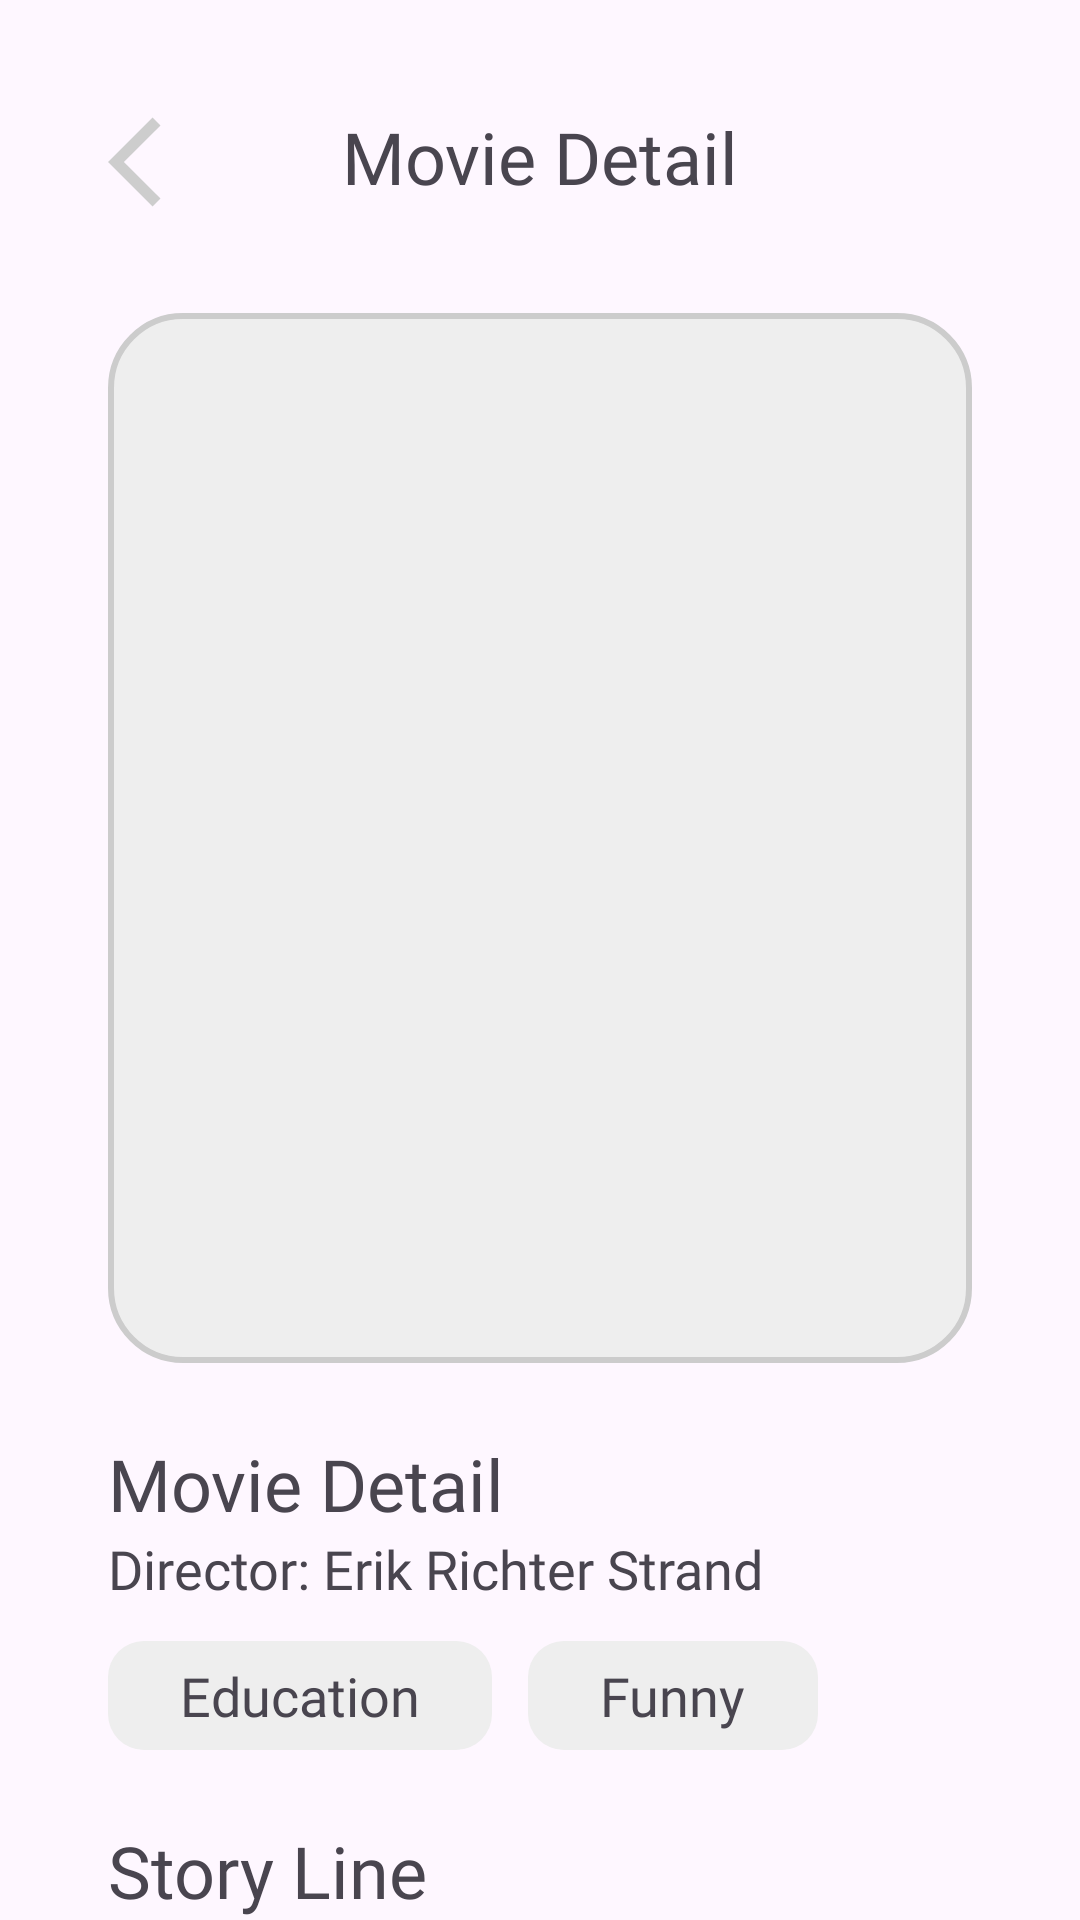

Named icons in this screenshot (1080x1920) and their bounding boxes, [left=x1, top=y1, right=x2, bottom=y2]:
arrow back: [left=109, top=118, right=160, bottom=206]
